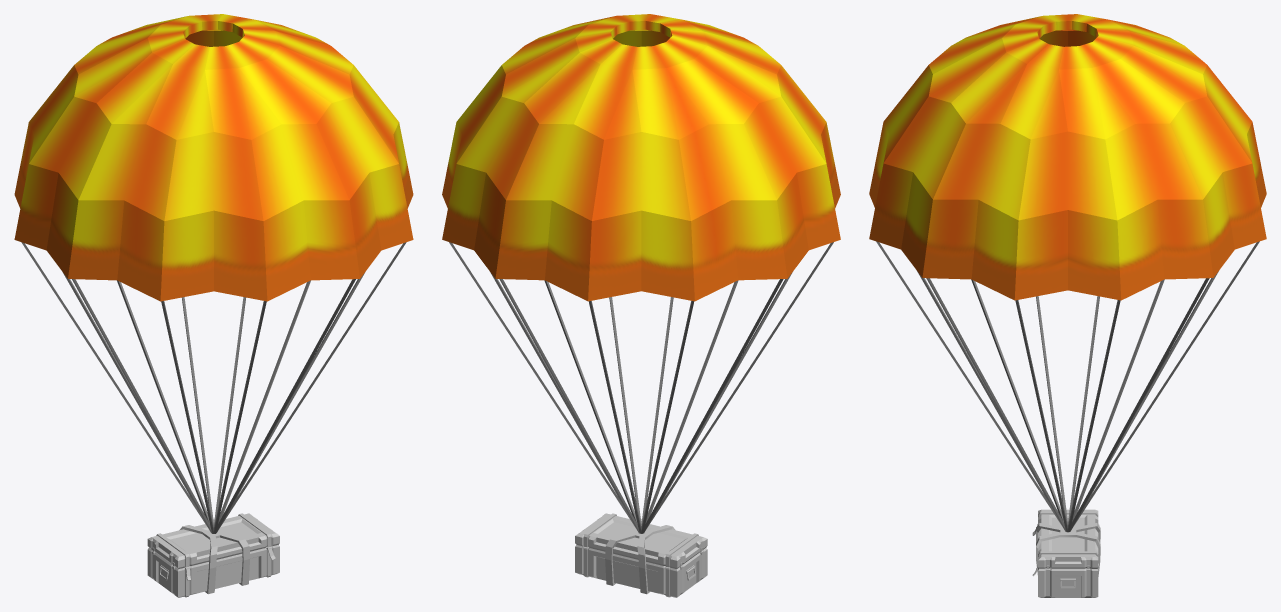
The model's file is SM_Prop_EmergencyDrop_01.fbx.
3 renders of one model, left to right at view 1: azimuth 30°, elevation 25°; view 2: azimuth 150°, elevation 25°; view 3: azimuth 270°, elevation 25°, orthographic.
Parts seen in each view (by area): view 1: Object001, SM_Prop_EmergencyDrop_01_Lid, SM_Prop_EmergencyDrop_01, SM_Prop_EmergencyDrop_01_Harness; view 2: Object001, SM_Prop_EmergencyDrop_01_Lid, SM_Prop_EmergencyDrop_01, SM_Prop_EmergencyDrop_01_Harness; view 3: Object001, SM_Prop_EmergencyDrop_01_Lid, SM_Prop_EmergencyDrop_01, SM_Prop_EmergencyDrop_01_Harness.
Part boxes in pixels (x1,y1,x2,y2): Object001: (14, 14, 413, 533); SM_Prop_EmergencyDrop_01_Lid: (147, 513, 279, 580); SM_Prop_EmergencyDrop_01: (147, 545, 279, 597); SM_Prop_EmergencyDrop_01_Harness: (179, 518, 249, 594); Object001: (442, 14, 840, 533); SM_Prop_EmergencyDrop_01_Lid: (575, 513, 707, 569); SM_Prop_EmergencyDrop_01: (575, 545, 707, 597); SM_Prop_EmergencyDrop_01_Harness: (605, 519, 675, 594); Object001: (869, 14, 1266, 532); SM_Prop_EmergencyDrop_01_Lid: (1032, 509, 1099, 576); SM_Prop_EmergencyDrop_01: (1038, 565, 1098, 597); SM_Prop_EmergencyDrop_01_Harness: (1036, 523, 1100, 576).
Bounding box in the file's own units: 444 × 669 × 444.
